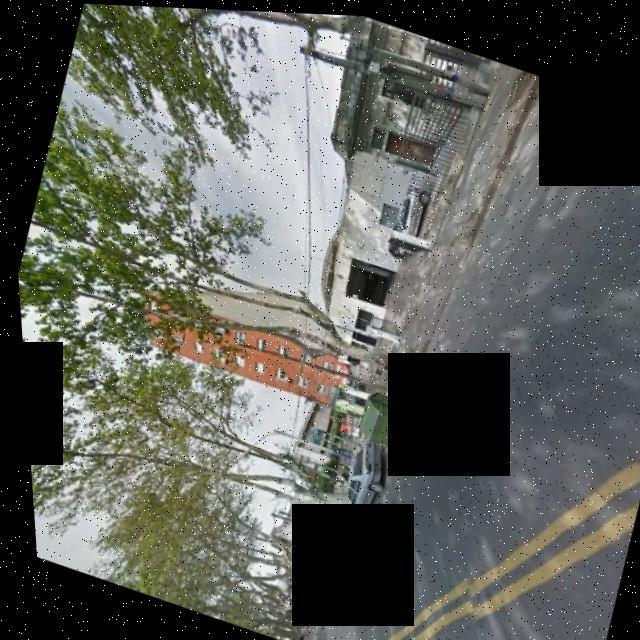bin: (343, 376, 422, 456)
